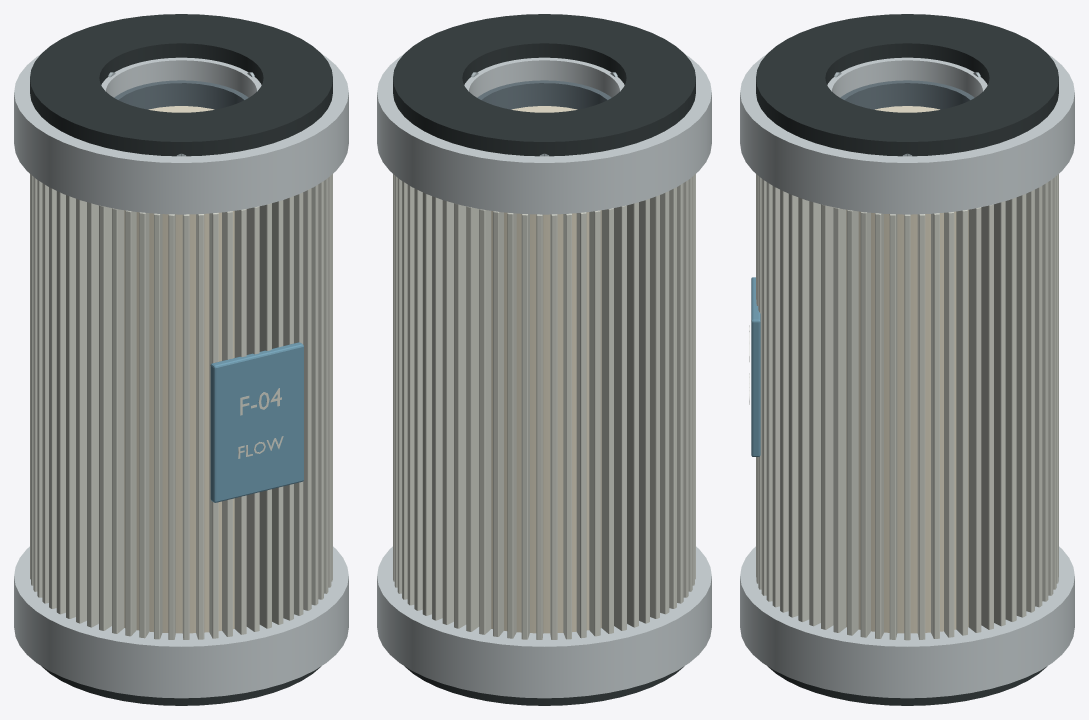
File: loot_filter.glb
The picture shows the model from 3 angles, left to right: view 1: azimuth 30°, elevation 25°; view 2: azimuth 150°, elevation 25°; view 3: azimuth 270°, elevation 25°; orthographic projection.
Parts seen in each view (by area): view 1: loot_filter; view 2: loot_filter; view 3: loot_filter.
Boxes of the visible parts, <box> form: loot_filter: <box>14,14,348,705</box>; loot_filter: <box>377,14,711,705</box>; loot_filter: <box>740,14,1074,705</box>.
Bounding box in the file's own units: 0.106 × 0.197 × 0.106.
